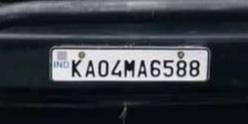0: (97, 57, 110, 78)
4: (111, 59, 123, 77)
5: (162, 58, 175, 78)
6: (149, 57, 162, 79)
8: (188, 58, 202, 78), (176, 58, 188, 78)
A: (83, 58, 97, 79), (136, 57, 149, 78)
K: (68, 57, 83, 79)
M: (123, 58, 135, 79)
